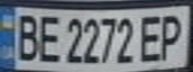2: (60, 12, 84, 65), (115, 12, 139, 64), (81, 14, 103, 65)
7: (100, 14, 118, 65)
B: (9, 10, 42, 62)
E: (33, 11, 63, 63), (136, 11, 166, 63)
P: (154, 10, 190, 61)
